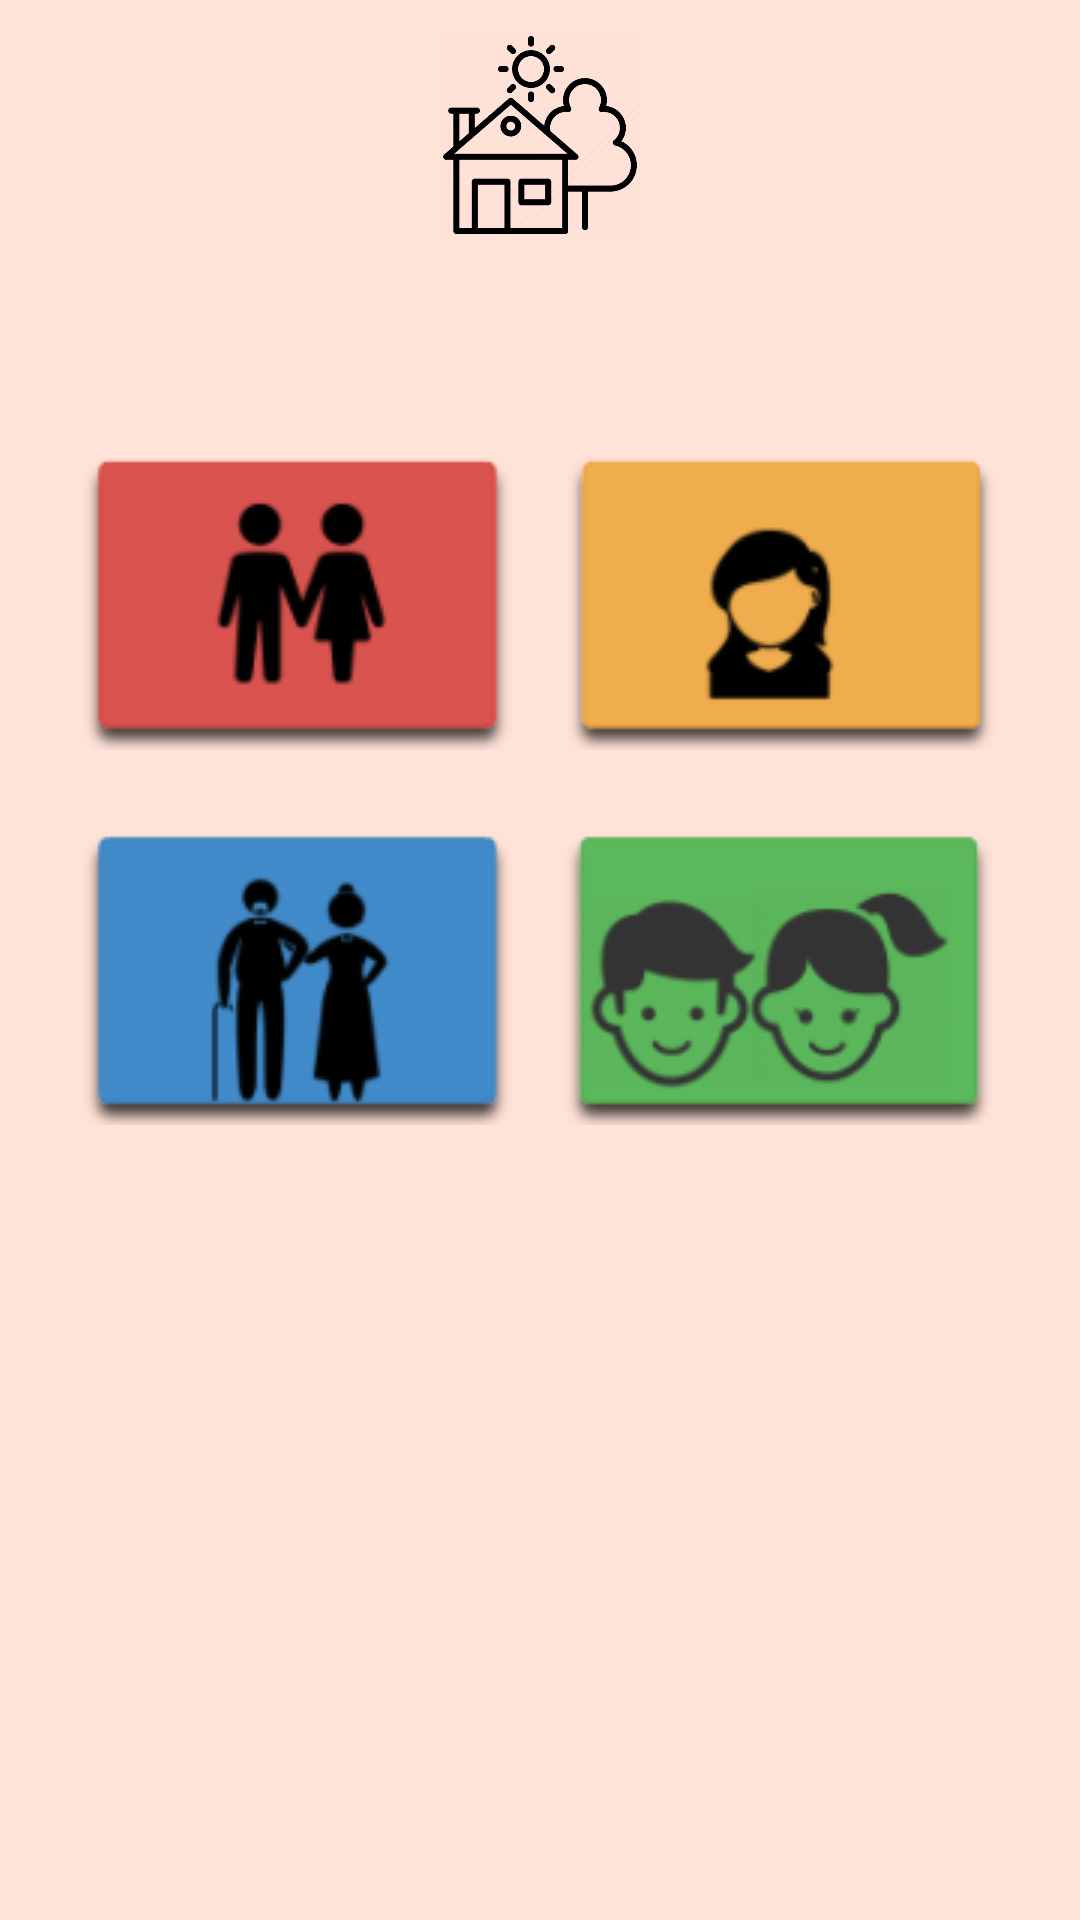

Icons on this 1080w x 1920h Android screen, each with its box as Rect(x1, y1, x2, y2):
house: Rect(443, 36, 637, 234)
